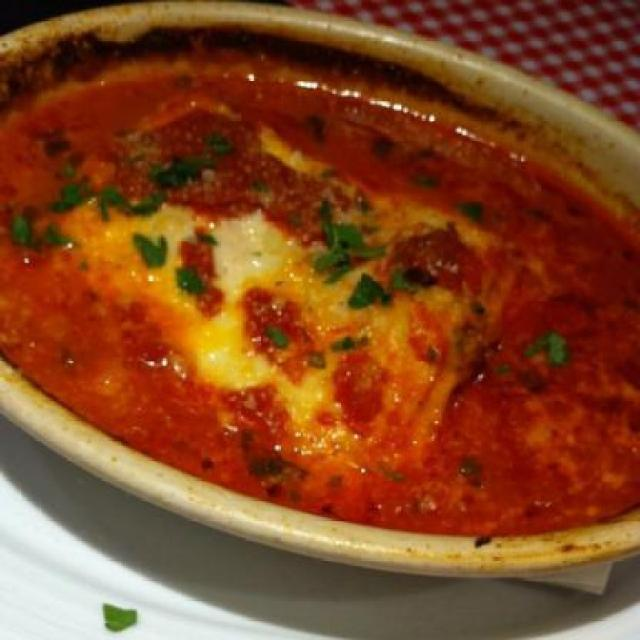Lasagna: (41, 96, 596, 522)
